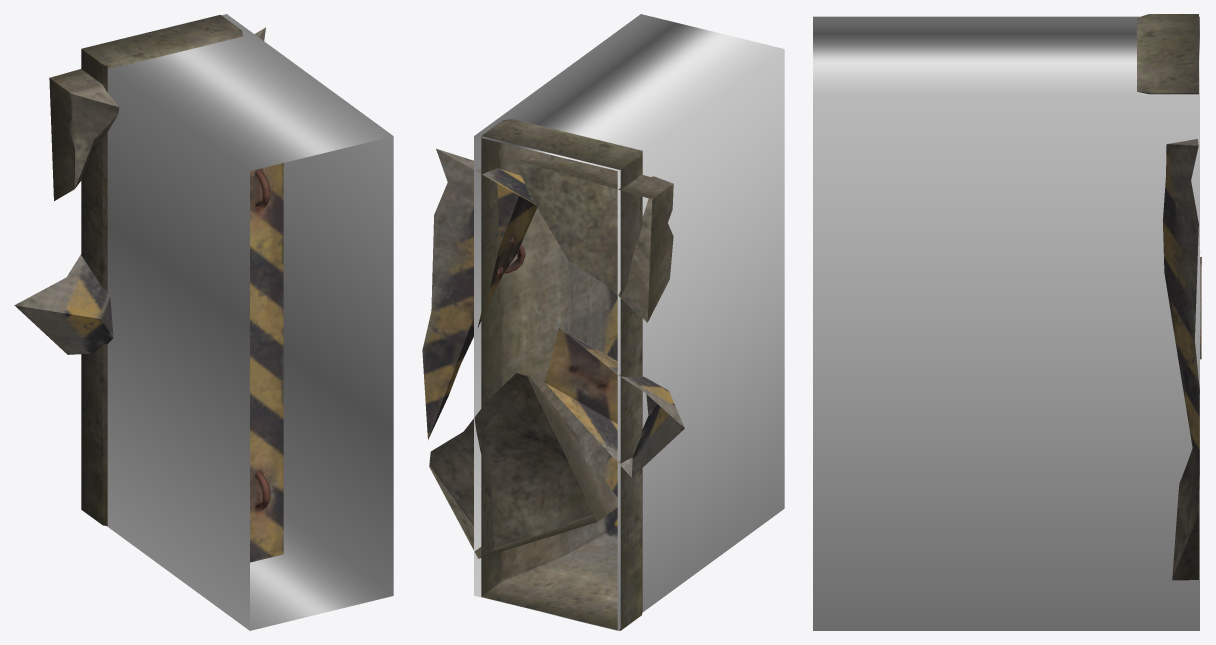
Rendered from hd_envAM_066_BarrierRepairwork.glb.
3 renders of one model, left to right at view 1: azimuth 30°, elevation 25°; view 2: azimuth 150°, elevation 25°; view 3: azimuth 270°, elevation 25°, orthographic. The views are drawn at different scales.
Parts seen in each view (by area): view 1: set_0_group_0, set_0_group_2, set_0_group_1; view 2: set_0_group_0, set_0_group_1, set_0_group_2; view 3: set_0_group_0, set_0_group_1, set_0_group_2.
Part boxes in pixels (x1,y1,x2,y2): set_0_group_0: [107, 14, 393, 630]; set_0_group_2: [81, 15, 283, 562]; set_0_group_1: [14, 27, 265, 354]; set_0_group_0: [474, 14, 784, 630]; set_0_group_1: [422, 148, 684, 558]; set_0_group_2: [481, 119, 642, 630]; set_0_group_0: [813, 16, 1199, 630]; set_0_group_1: [1163, 139, 1201, 580]; set_0_group_2: [1137, 14, 1198, 94].
Bounding box in the file's own units: 1.82 × 3.05 × 2.01.
Materials: 3 (2 with a texture image).
